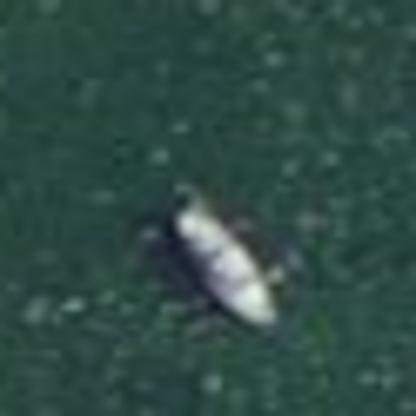ship: (148, 174, 296, 339)
